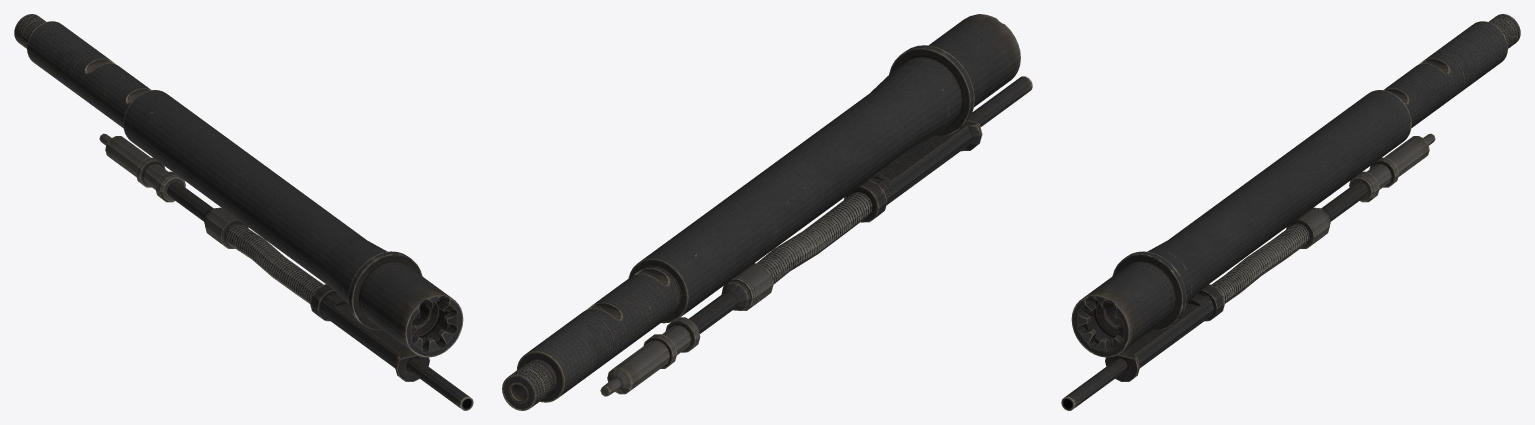
3 renders of one model, left to right at view 1: azimuth 30°, elevation 25°; view 2: azimuth 150°, elevation 25°; view 3: azimuth 330°, elevation 25°, orthographic. The views are drawn at different scales.
Visible parts, largest first — view 1: TW_5bb20d92d4351e00853263eb_PZ_Import; view 2: TW_5bb20d92d4351e00853263eb_PZ_Import; view 3: TW_5bb20d92d4351e00853263eb_PZ_Import.
Boxes of the visible parts, box(x1,y1,x2,y2) form: TW_5bb20d92d4351e00853263eb_PZ_Import: box(14, 14, 473, 410); TW_5bb20d92d4351e00853263eb_PZ_Import: box(502, 14, 1032, 410); TW_5bb20d92d4351e00853263eb_PZ_Import: box(1061, 14, 1520, 410).
Bounding box in the file's own units: 0.017 × 0.1812 × 0.0246.
Materials: 1 (1 with a texture image).
